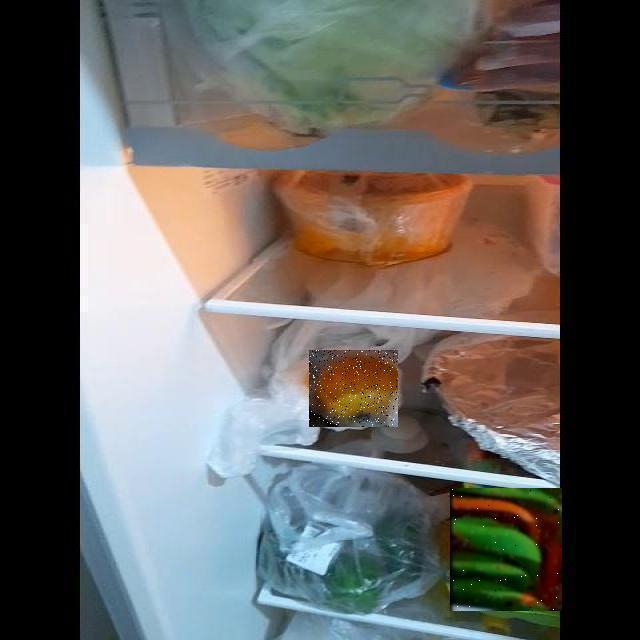Lemon: (309, 350, 398, 427)
Meat: (450, 488, 562, 611)
